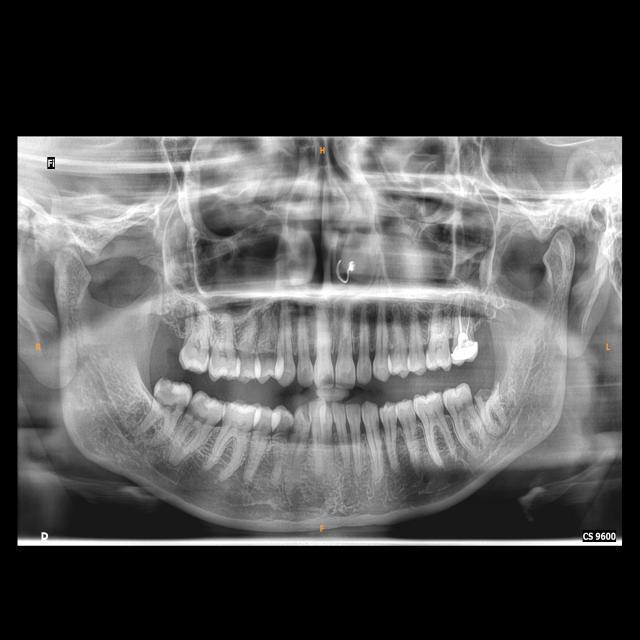kanal-tedavisi: (454, 308, 470, 340)
kaplama: (453, 340, 477, 361)
kirik: (474, 382, 502, 406)
